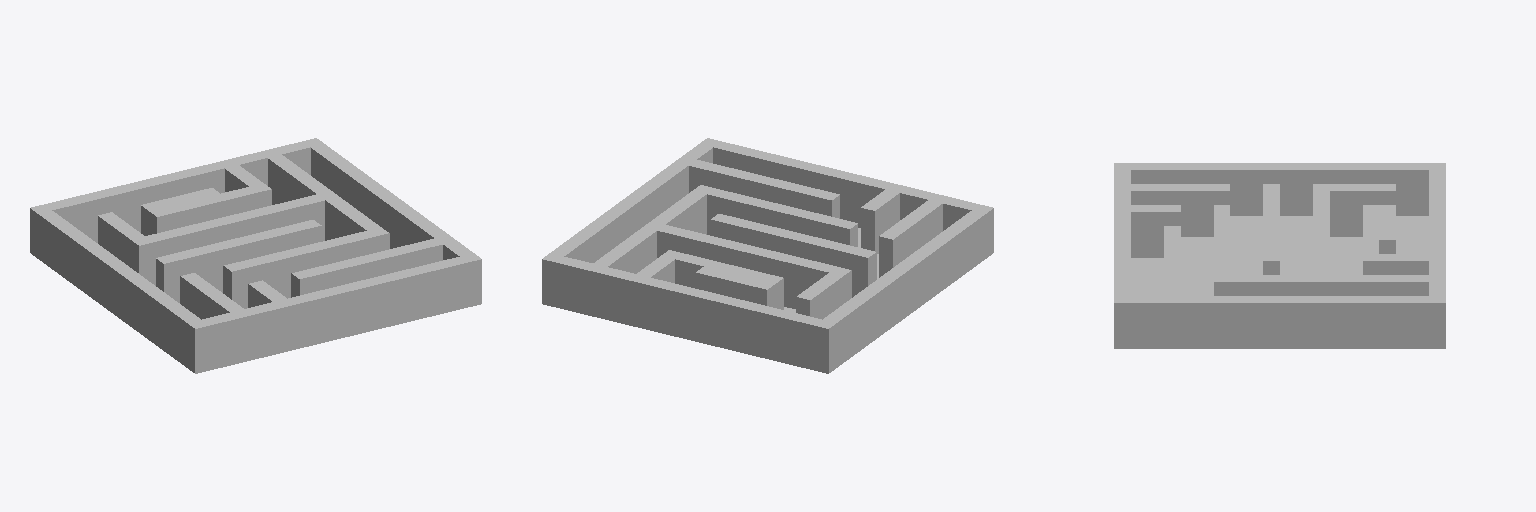
File: map.obj
The picture shows the model from 3 angles: view 1: azimuth 30°, elevation 25°; view 2: azimuth 150°, elevation 25°; view 3: azimuth 270°, elevation 25°; orthographic projection.
Visible parts, largest first — view 1: Plane001; view 2: Plane001; view 3: Plane001.
Part boxes in pixels (left/top/right/bottom): Plane001: left=30, top=138, right=481, bottom=373; Plane001: left=542, top=138, right=993, bottom=373; Plane001: left=1114, top=163, right=1445, bottom=348.
Bounding box in the file's own units: 20 × 3 × 20.